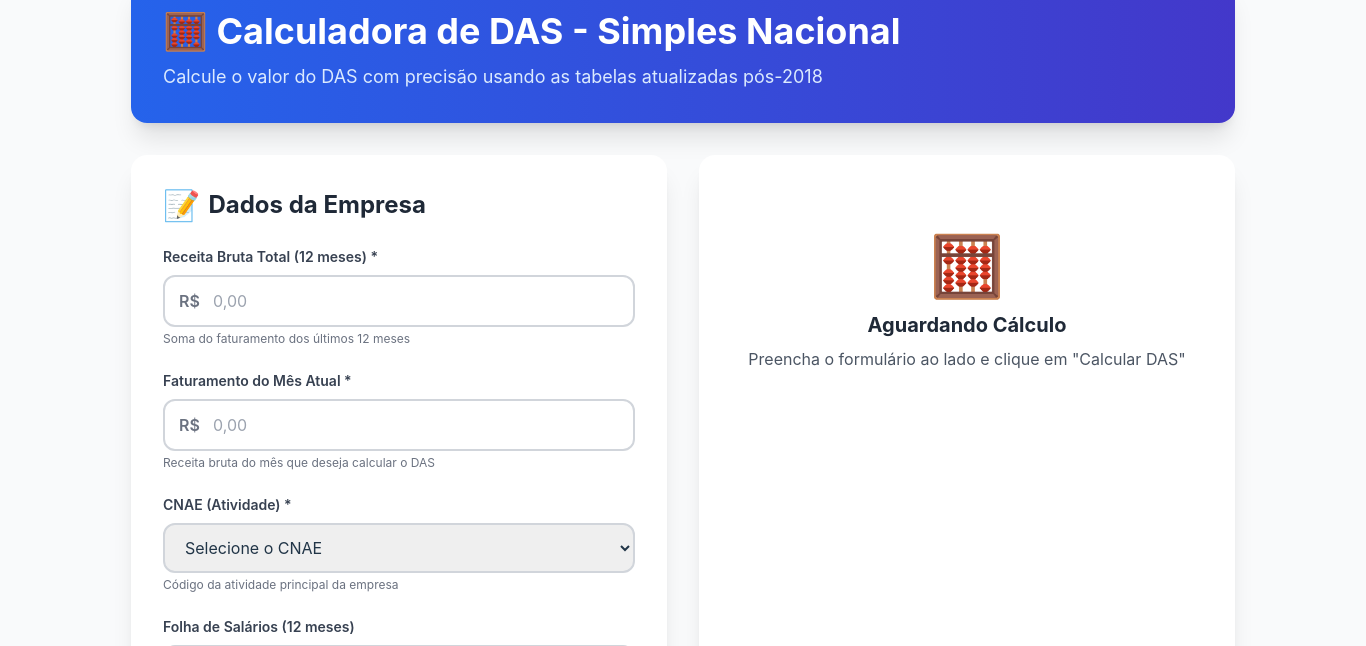
Scenario: CalculadoraDAS - Testes de UI › Dado botão Limpar › Quando clicar em Limpar, Então deve resetar formulário
Type "500000" into the number field with placeholder "0,00" below "Receita Bruta Total (12 meses) *" at (399, 301), box [163,275,635,327]
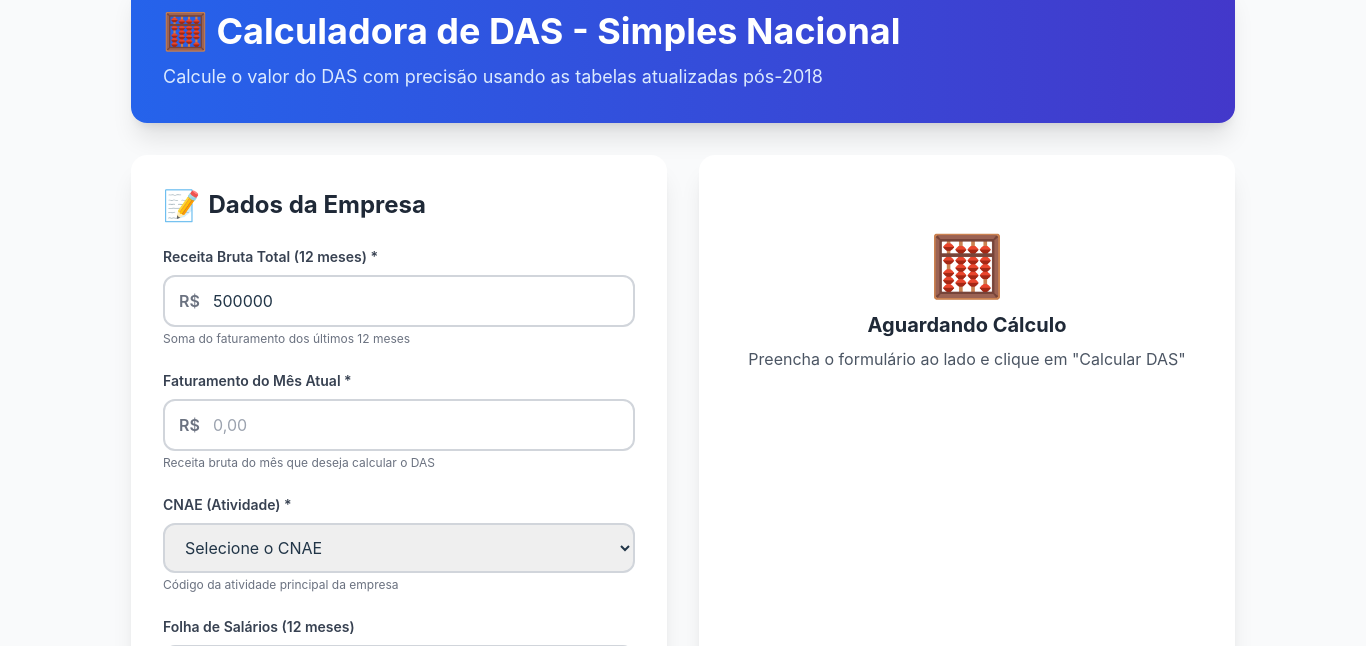
Type "40000" into the number field with placeholder "0,00" below "Faturamento do Mês Atual *" at (399, 425), box [163,399,635,451]
(page scrolled)
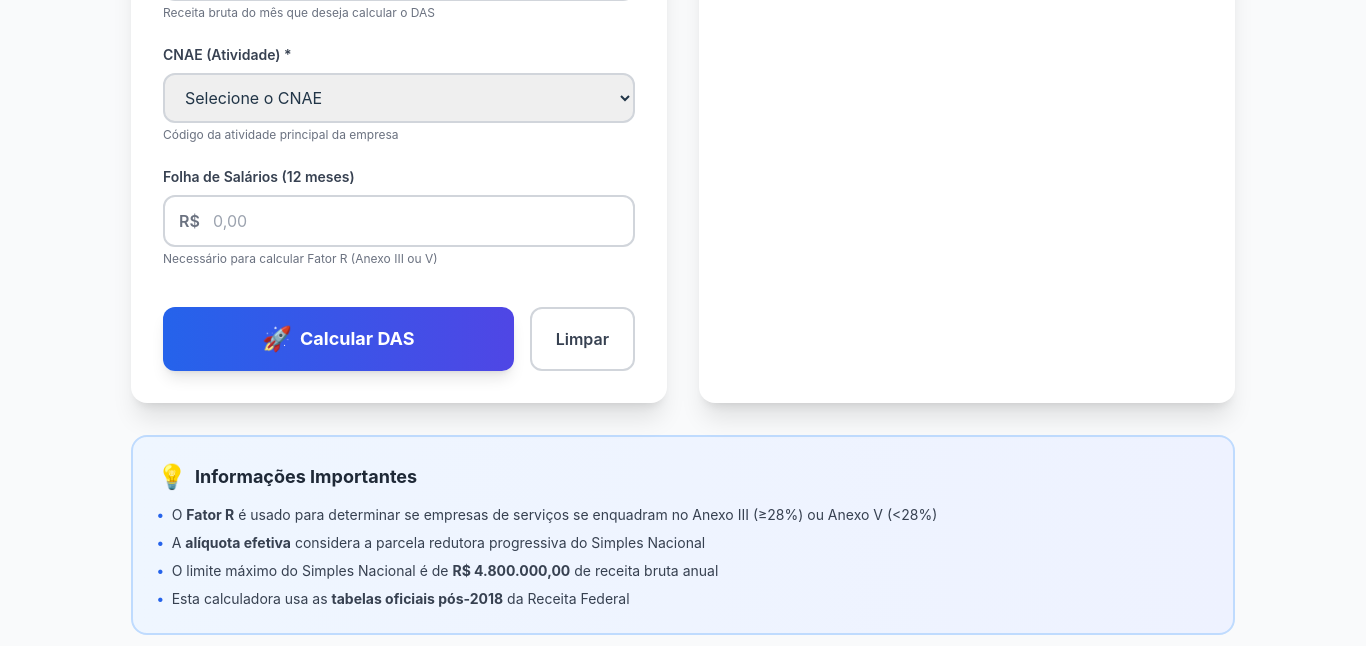
Click the button "Limpar" at (582, 339), box [530,307,635,371]
(page scrolled)
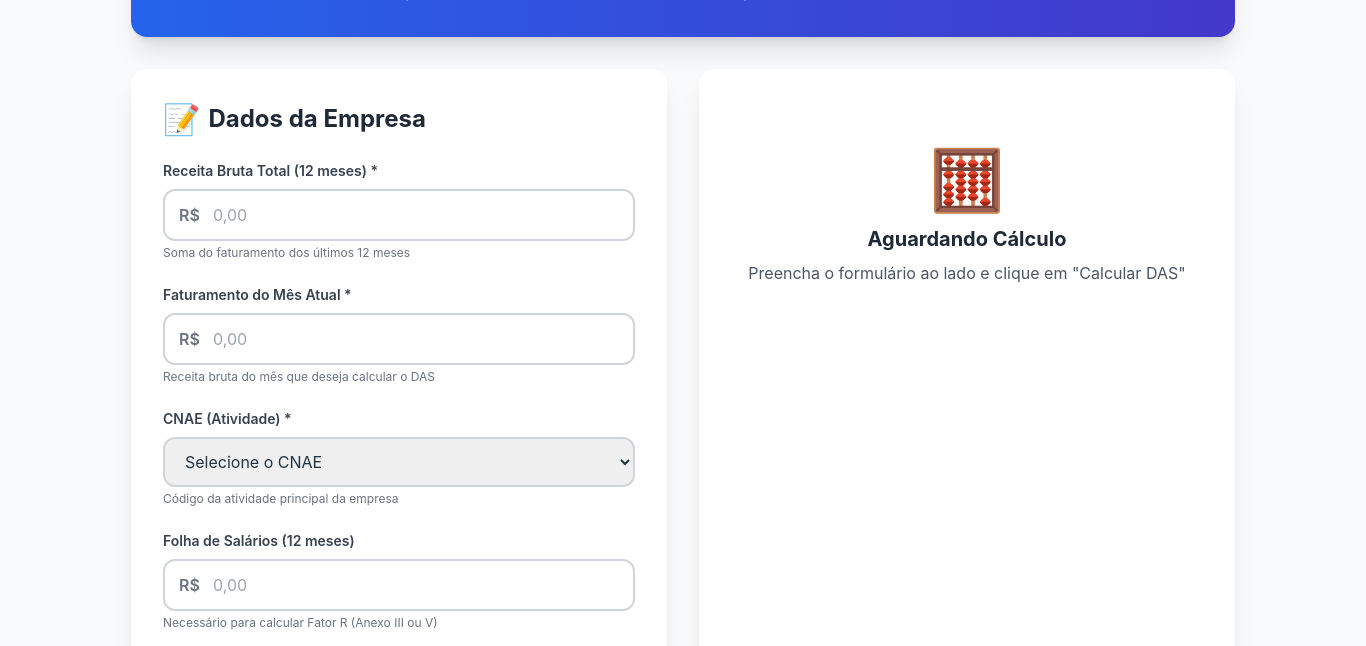
Check: the number field with placeholder "0,00" below "Receita Bruta Total (12 meses) *" is empty, box [163,189,635,241]
Check: the number field with placeholder "0,00" below "Faturamento do Mês Atual *" is empty, box [163,313,635,365]
